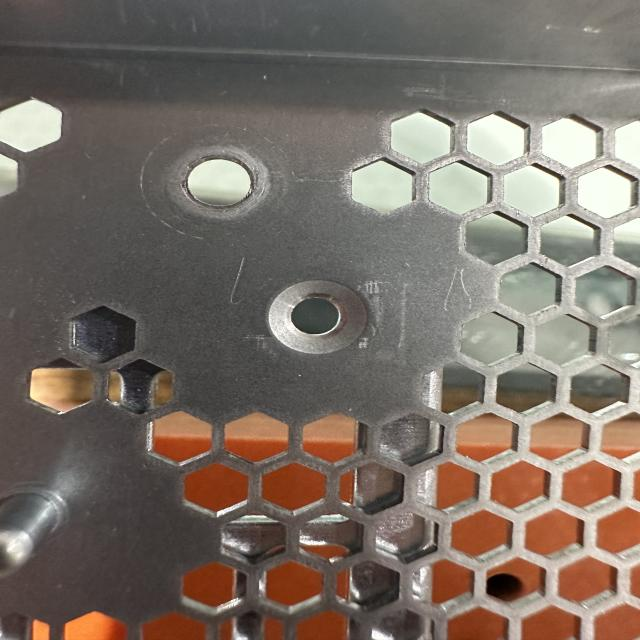Missing screw: (252, 268, 392, 364)
